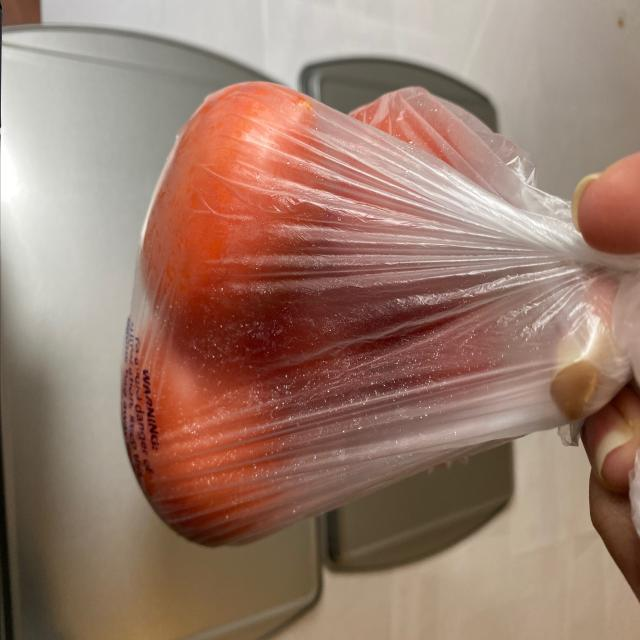tomato: (126, 76, 512, 558)
